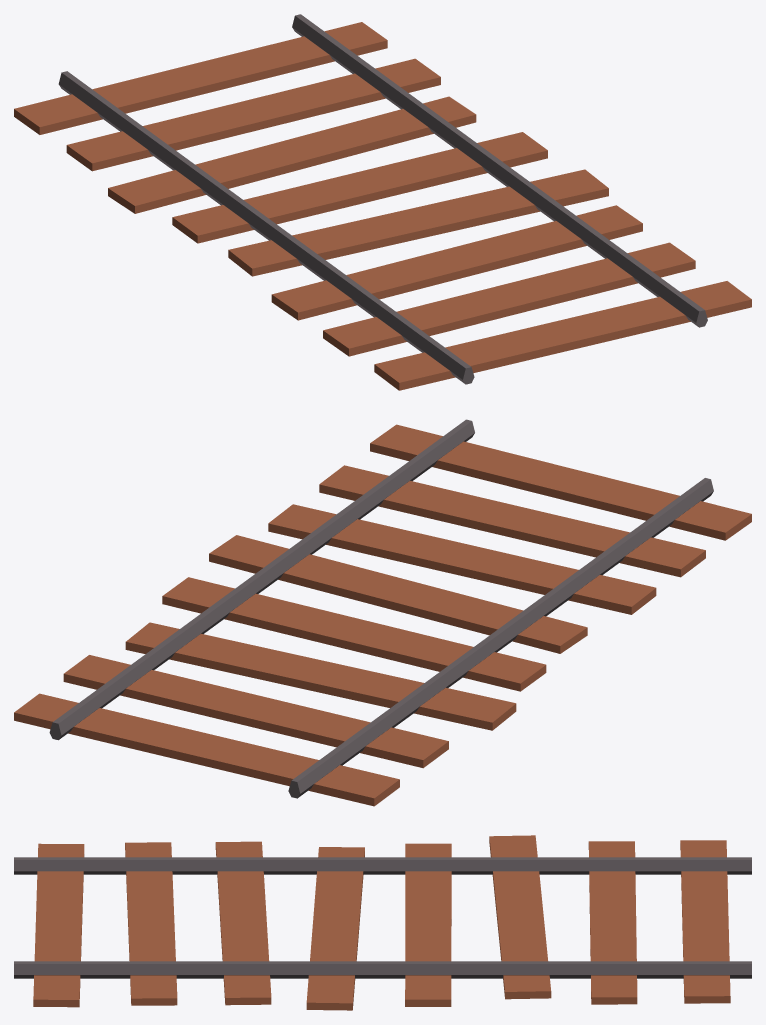
File: Tracks_straight.fbx
3 views of the same model, one above another, from view 1: azimuth 30°, elevation 25°; view 2: azimuth 150°, elevation 25°; view 3: azimuth 270°, elevation 25° (orthographic). The views are drawn at different scales.
Parts seen in each view (by area): view 1: Tracks_straight; view 2: Tracks_straight; view 3: Tracks_straight.
Boxes of the visible parts, x1,y1,x2,y2 form: Tracks_straight: (14, 14, 751, 390); Tracks_straight: (14, 419, 751, 806); Tracks_straight: (14, 835, 751, 1010).
Bounding box in the file's own units: 323 × 15.62 × 600.
